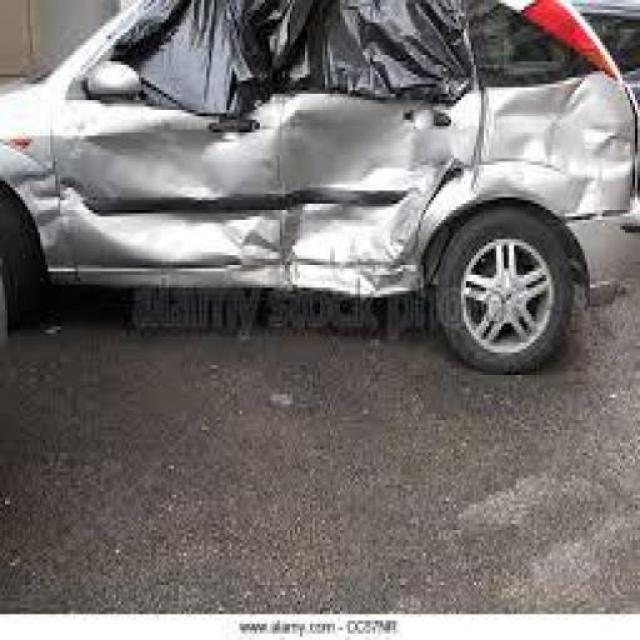crush: (4, 2, 632, 293)
